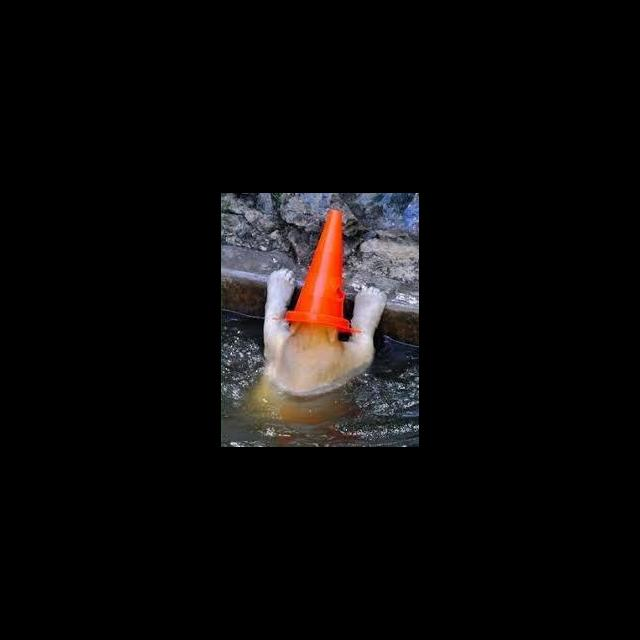Safety Cone: (289, 209, 362, 334)
